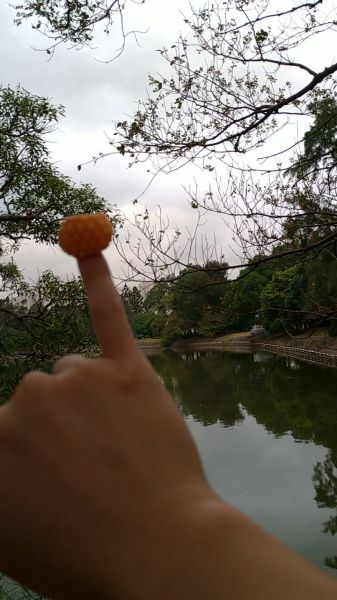eggs: (57, 211, 114, 259)
